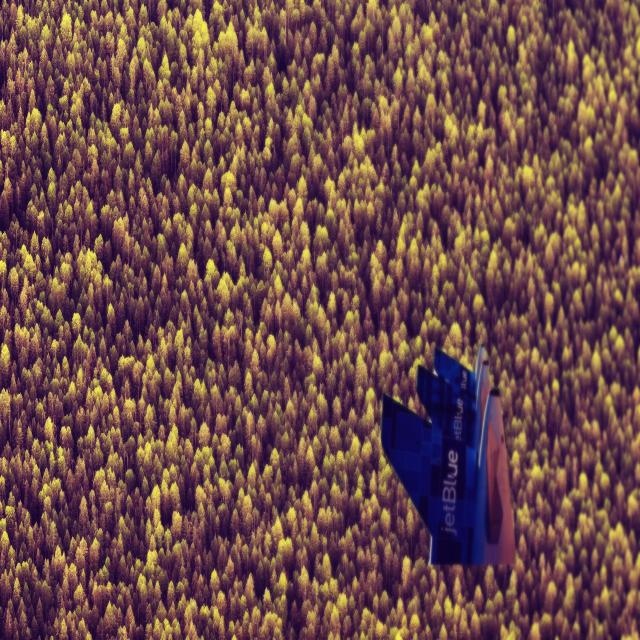airplane: (380, 344, 516, 567)
